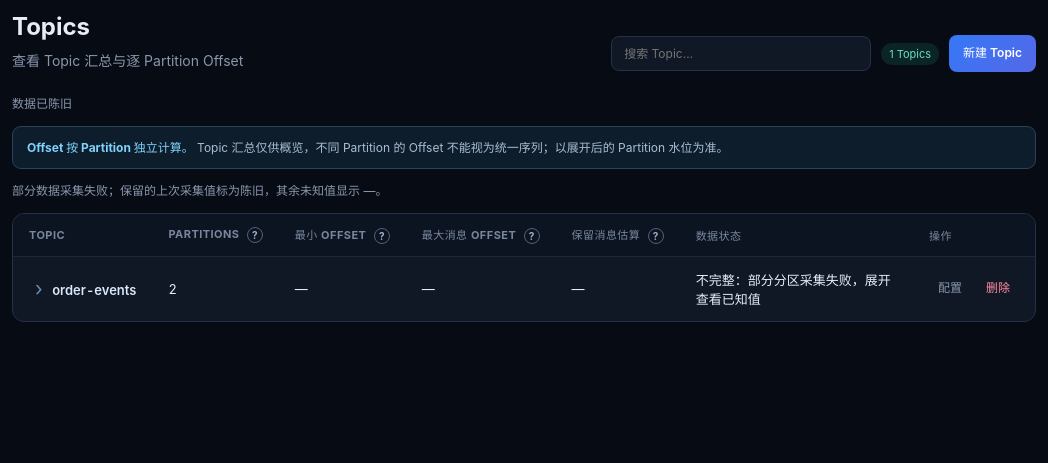
marks partial data and shows unavailable offsets as dashes
The image size is (1048, 463).
Expected: the text "不完整：部分分区采集失败，展开查看已知值" is shown, [680, 256, 913, 321]
Expected: the text "部分数据采集失败；保留的上次采集值标为陈旧，其余未知值显示 —。" is shown, [12, 183, 387, 198]
Click the button named "展开 order-events".
click(39, 289)  # box [29, 279, 49, 299]
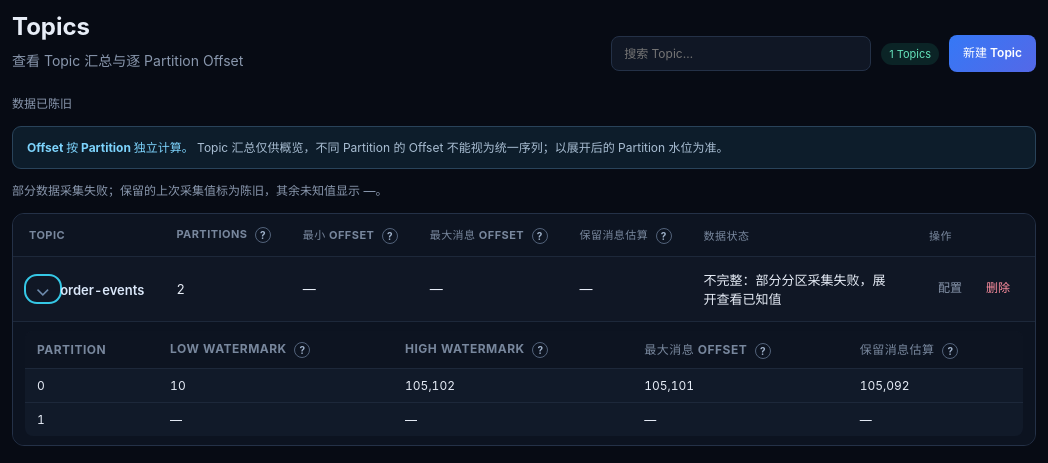
Result: the cells read "1", "—", "—", "—", "—", in this order at [25, 402, 158, 436]; [158, 402, 393, 436]; [393, 402, 632, 436]; [632, 402, 848, 436]; [848, 402, 1023, 436]
